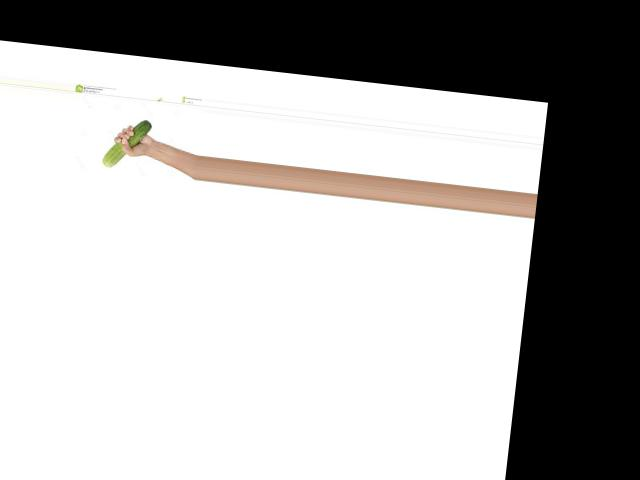cucumber: (102, 115, 153, 171)
